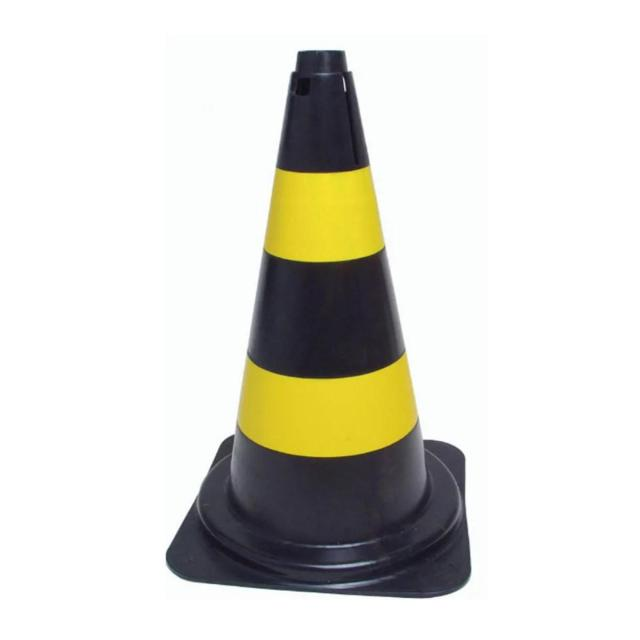cone: (172, 30, 495, 595)
